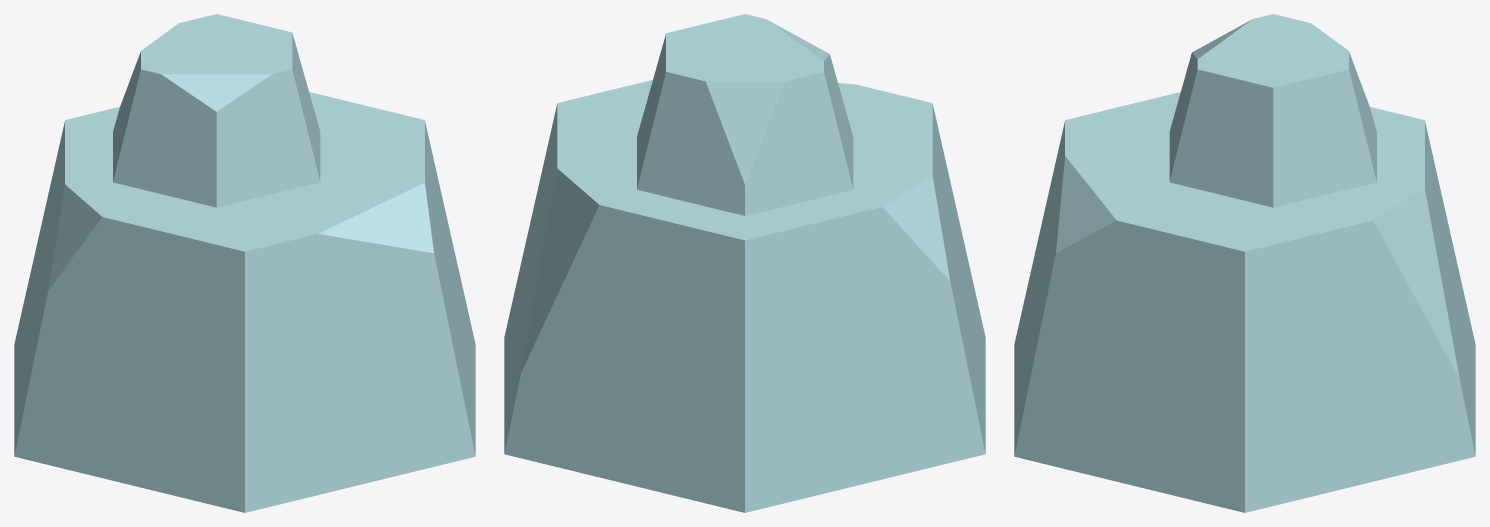
File: Stone Small E.glb
3 views of the same model, side by side, from view 1: azimuth 30°, elevation 25°; view 2: azimuth 150°, elevation 25°; view 3: azimuth 270°, elevation 25° (orthographic). The views are drawn at different scales.
Parts seen in each view (by area): view 1: stone_smallE; view 2: stone_smallE; view 3: stone_smallE.
Boxes of the visible parts, left/top/right/bottom form: stone_smallE: left=14, top=14, right=475, bottom=512; stone_smallE: left=504, top=14, right=985, bottom=512; stone_smallE: left=1014, top=14, right=1475, bottom=512.
Size of the model in its own units: 0.3608 by 0.2562 by 0.3125.
